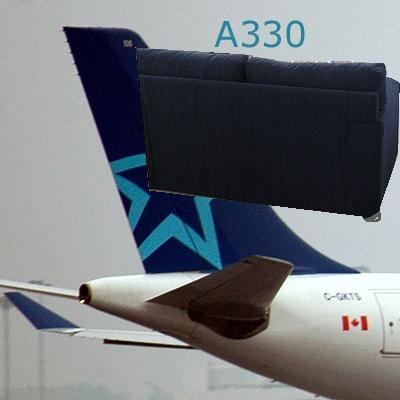tampered: (136, 48, 400, 222)
